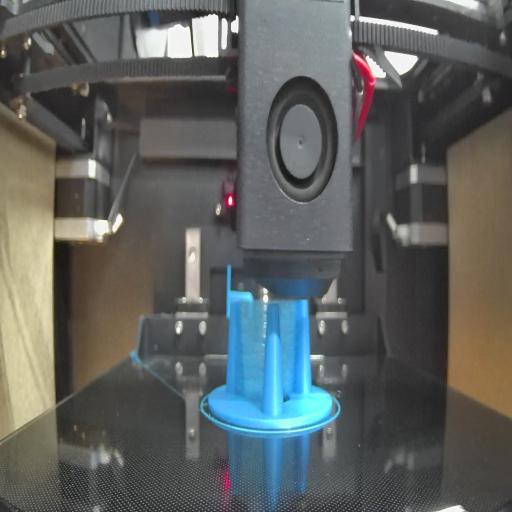stringing: (234, 300, 265, 413), (281, 299, 303, 405)
